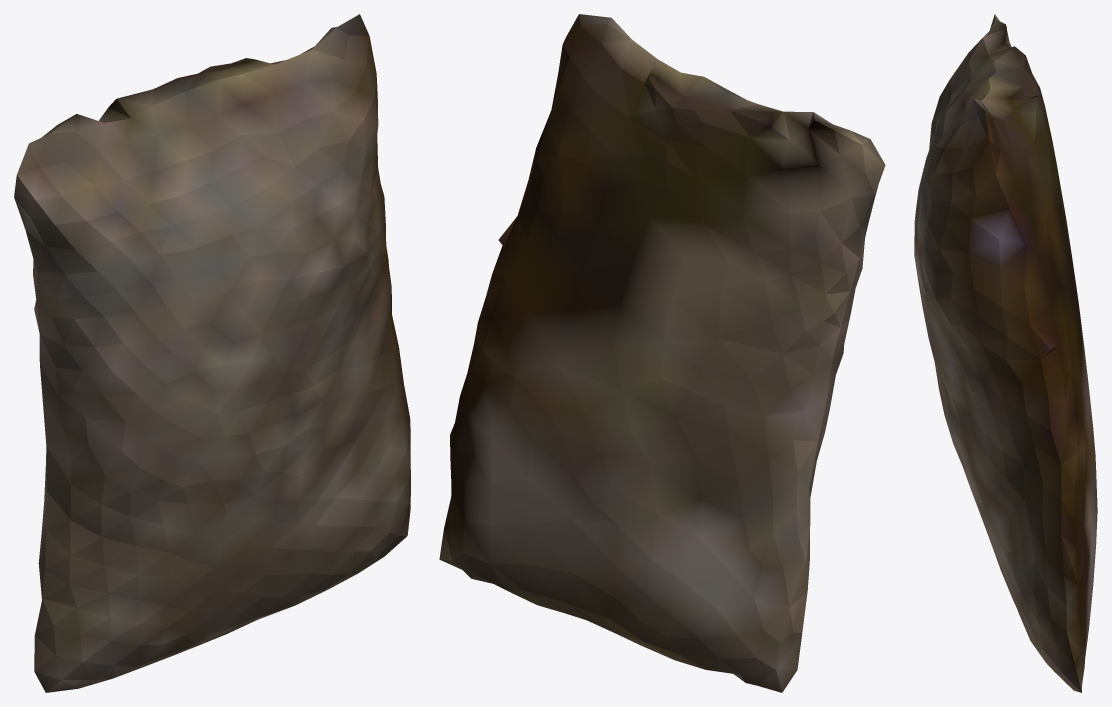
File: pellets-sack1.dae
3 views of the same model, side by side, from view 1: azimuth 30°, elevation 25°; view 2: azimuth 150°, elevation 25°; view 3: azimuth 270°, elevation 25° (orthographic). The views are drawn at different scales.
Parts seen in each view (by area): view 1: node; view 2: node; view 3: node.
Boxes of the visible parts, x1,y1,x2,y2 form: node: (14,14,410,692); node: (439,14,885,692); node: (914,14,1097,692).
Size of the model in its own units: 0.7082 by 0.9956 by 0.2777.
